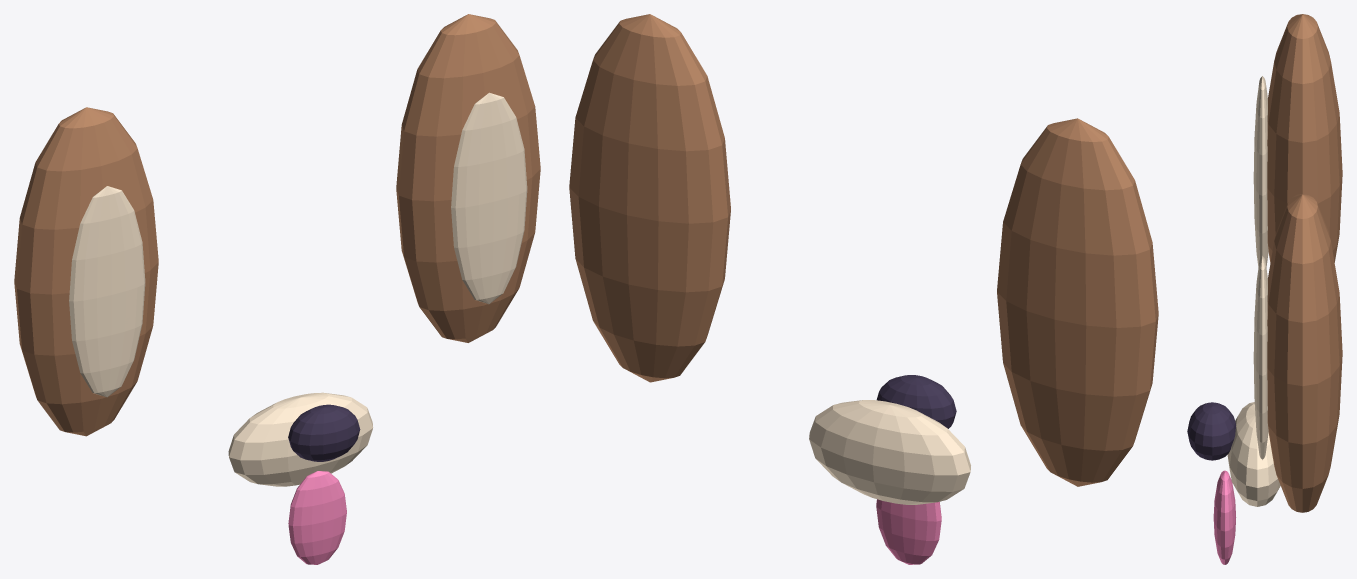
File: puppy.glb
3 views of the same model, side by side, from view 1: azimuth 30°, elevation 25°; view 2: azimuth 150°, elevation 25°; view 3: azimuth 270°, elevation 25° (orthographic). The views are drawn at different scales.
Visible parts, largest first — view 1: floppy puppy ear (×2), inner ear (×2), muzzle, tongue, nose; view 2: floppy puppy ear (×2), muzzle, tongue, nose; view 3: floppy puppy ear (×2), inner ear (×2), muzzle, nose, tongue.
Part boxes in pixels (x1,y1,x2,y2): floppy puppy ear (×2): (14,14,540,436); inner ear (×2): (69,92,527,397); muzzle: (228,392,373,486); tongue: (288,471,346,564); nose: (288,404,360,461); floppy puppy ear (×2): (569,14,1158,486); muzzle: (809,400,970,504); tongue: (876,499,941,564); nose: (876,375,956,428); floppy puppy ear (×2): (1267,14,1342,512); inner ear (×2): (1253,76,1268,459); muzzle: (1227,402,1280,506); nose: (1187,402,1236,460); tongue: (1213,470,1236,564).
Size of the model in its own units: 2.32 by 2.02 by 0.62.
